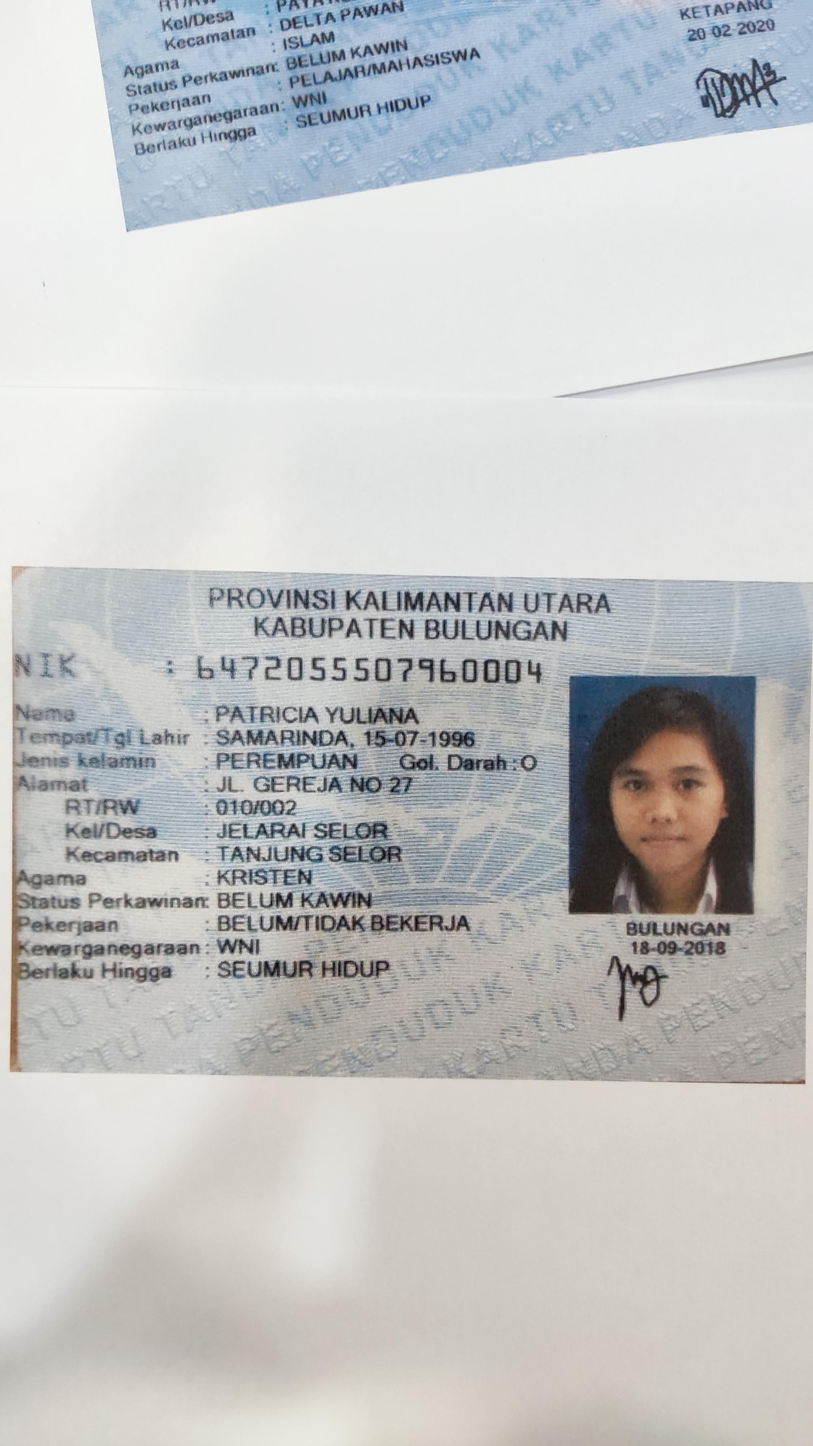ID-card: (13, 569, 811, 1075)
